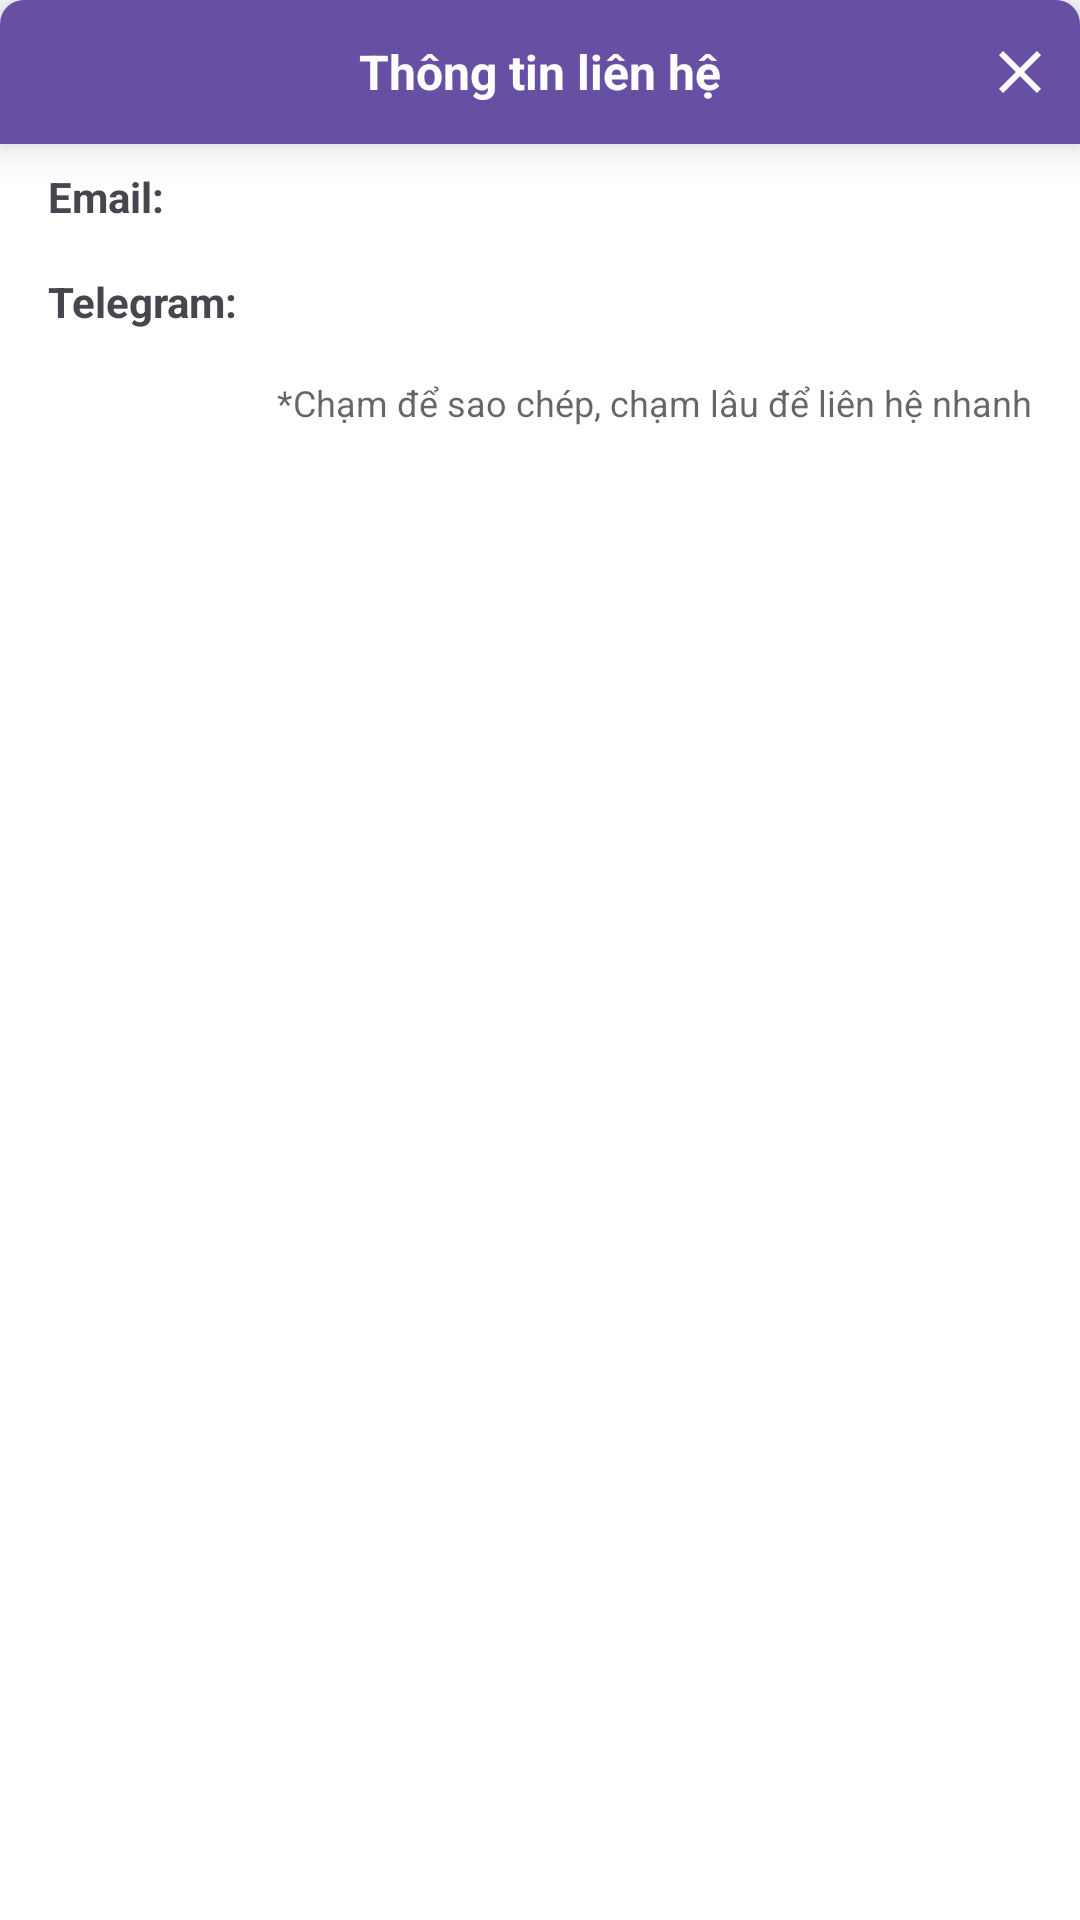

Screen size 1080w x 1920h. Icon name, then its center in pixels as (x=x, y=y):
Đóng: (x=1020, y=72)
